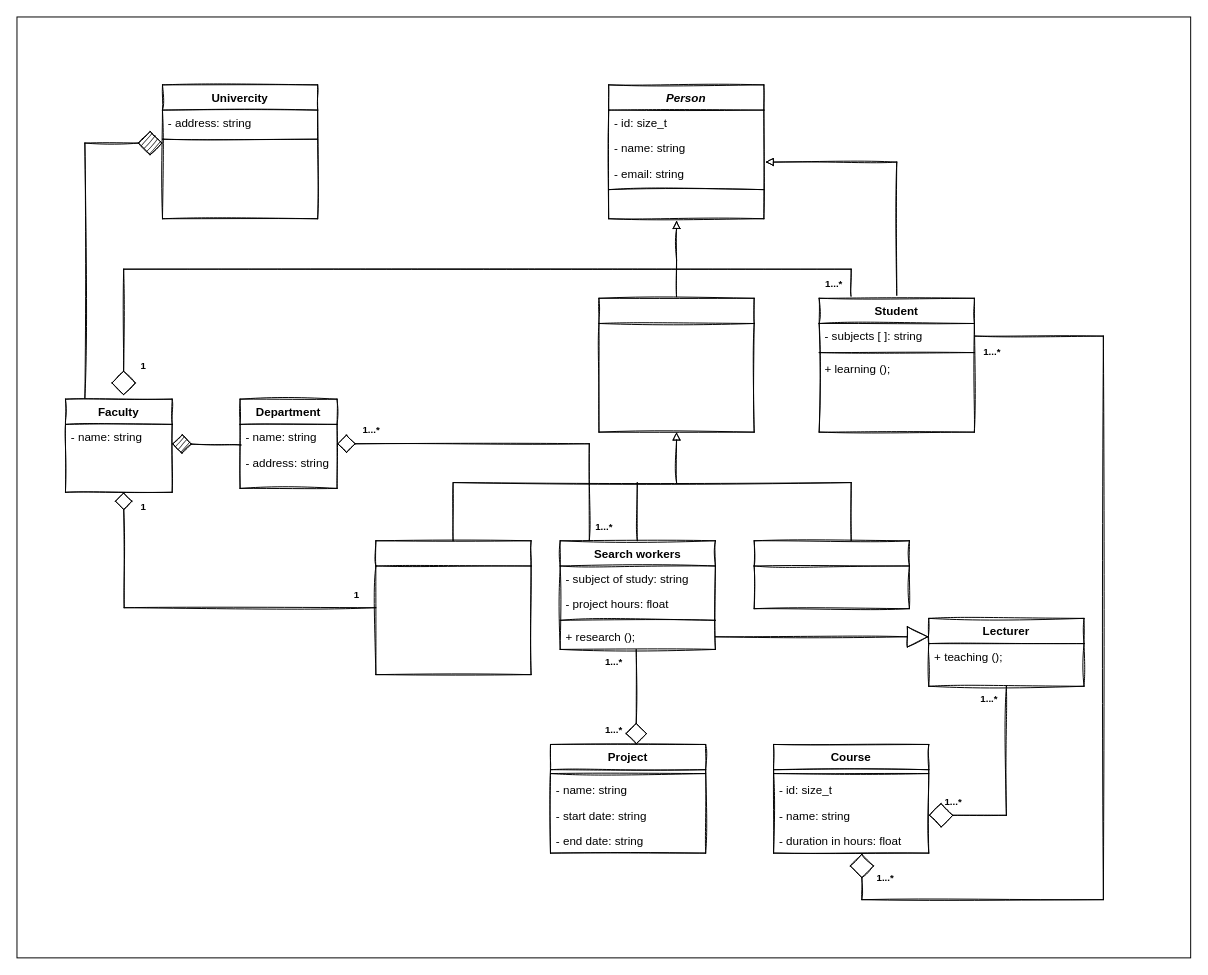
The diagram is 1208 pixels wide and 975 high, and some of its shapes have lost their labels. The shapes that lost their labels are listed below. From the top down, each one's centre as x and y in pixels, then its label:
At point 676,364: "Employee".
At point 831,574: "Administrator".
At point 453,607: "Faculty head".
